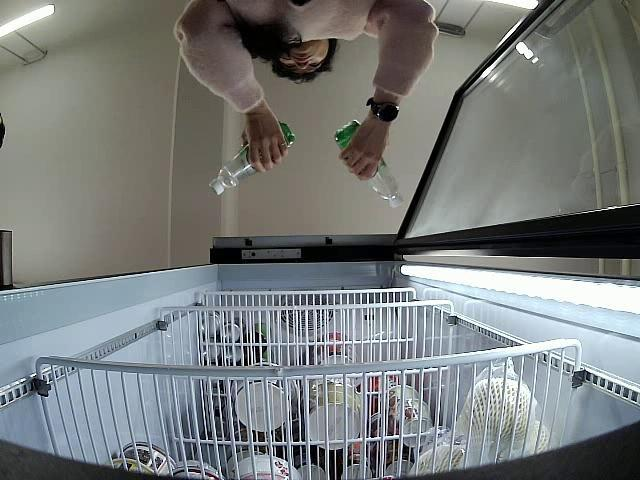18_trevi: (206, 122, 294, 194), (335, 120, 406, 208)
